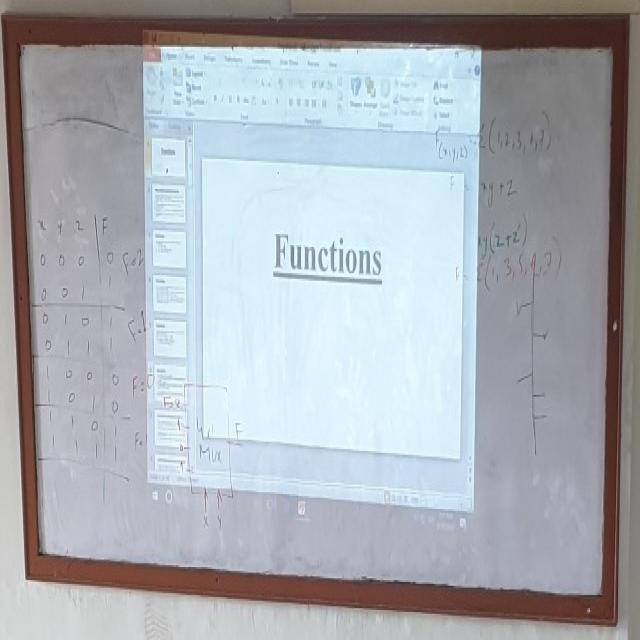Slide: (143, 27, 484, 537)
White-board: (10, 32, 620, 618)
